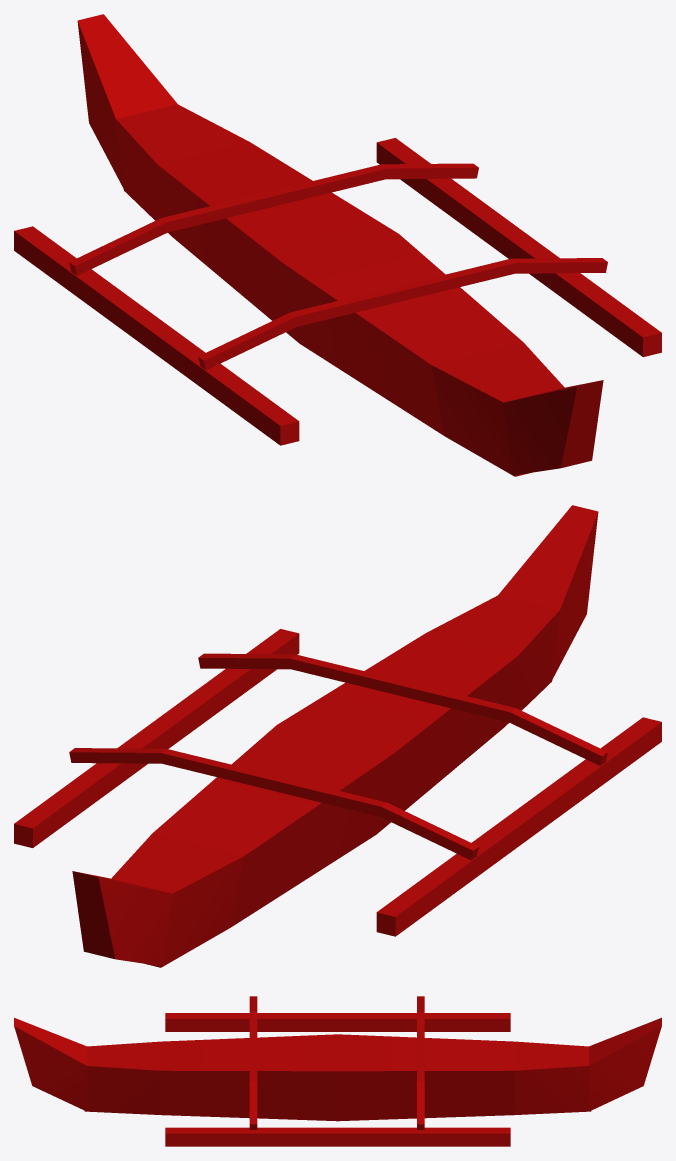
The model's file is SM_Veh_Outrigger_Canoe_01_Collision.gltf.
3 views of the same model, one above another, from view 1: azimuth 30°, elevation 25°; view 2: azimuth 150°, elevation 25°; view 3: azimuth 270°, elevation 25° (orthographic). The views are drawn at different scales.
Parts seen in each view (by area): view 1: SM_Veh_Outrigger_Canoe_01_Collision; view 2: SM_Veh_Outrigger_Canoe_01_Collision; view 3: SM_Veh_Outrigger_Canoe_01_Collision.
Boxes of the visible parts, x1,y1,x2,y2 form: SM_Veh_Outrigger_Canoe_01_Collision: [14, 14, 661, 476]; SM_Veh_Outrigger_Canoe_01_Collision: [14, 505, 661, 967]; SM_Veh_Outrigger_Canoe_01_Collision: [14, 996, 661, 1146].
Bounding box in the file's own units: 3.16 × 0.9995 × 6.78.
